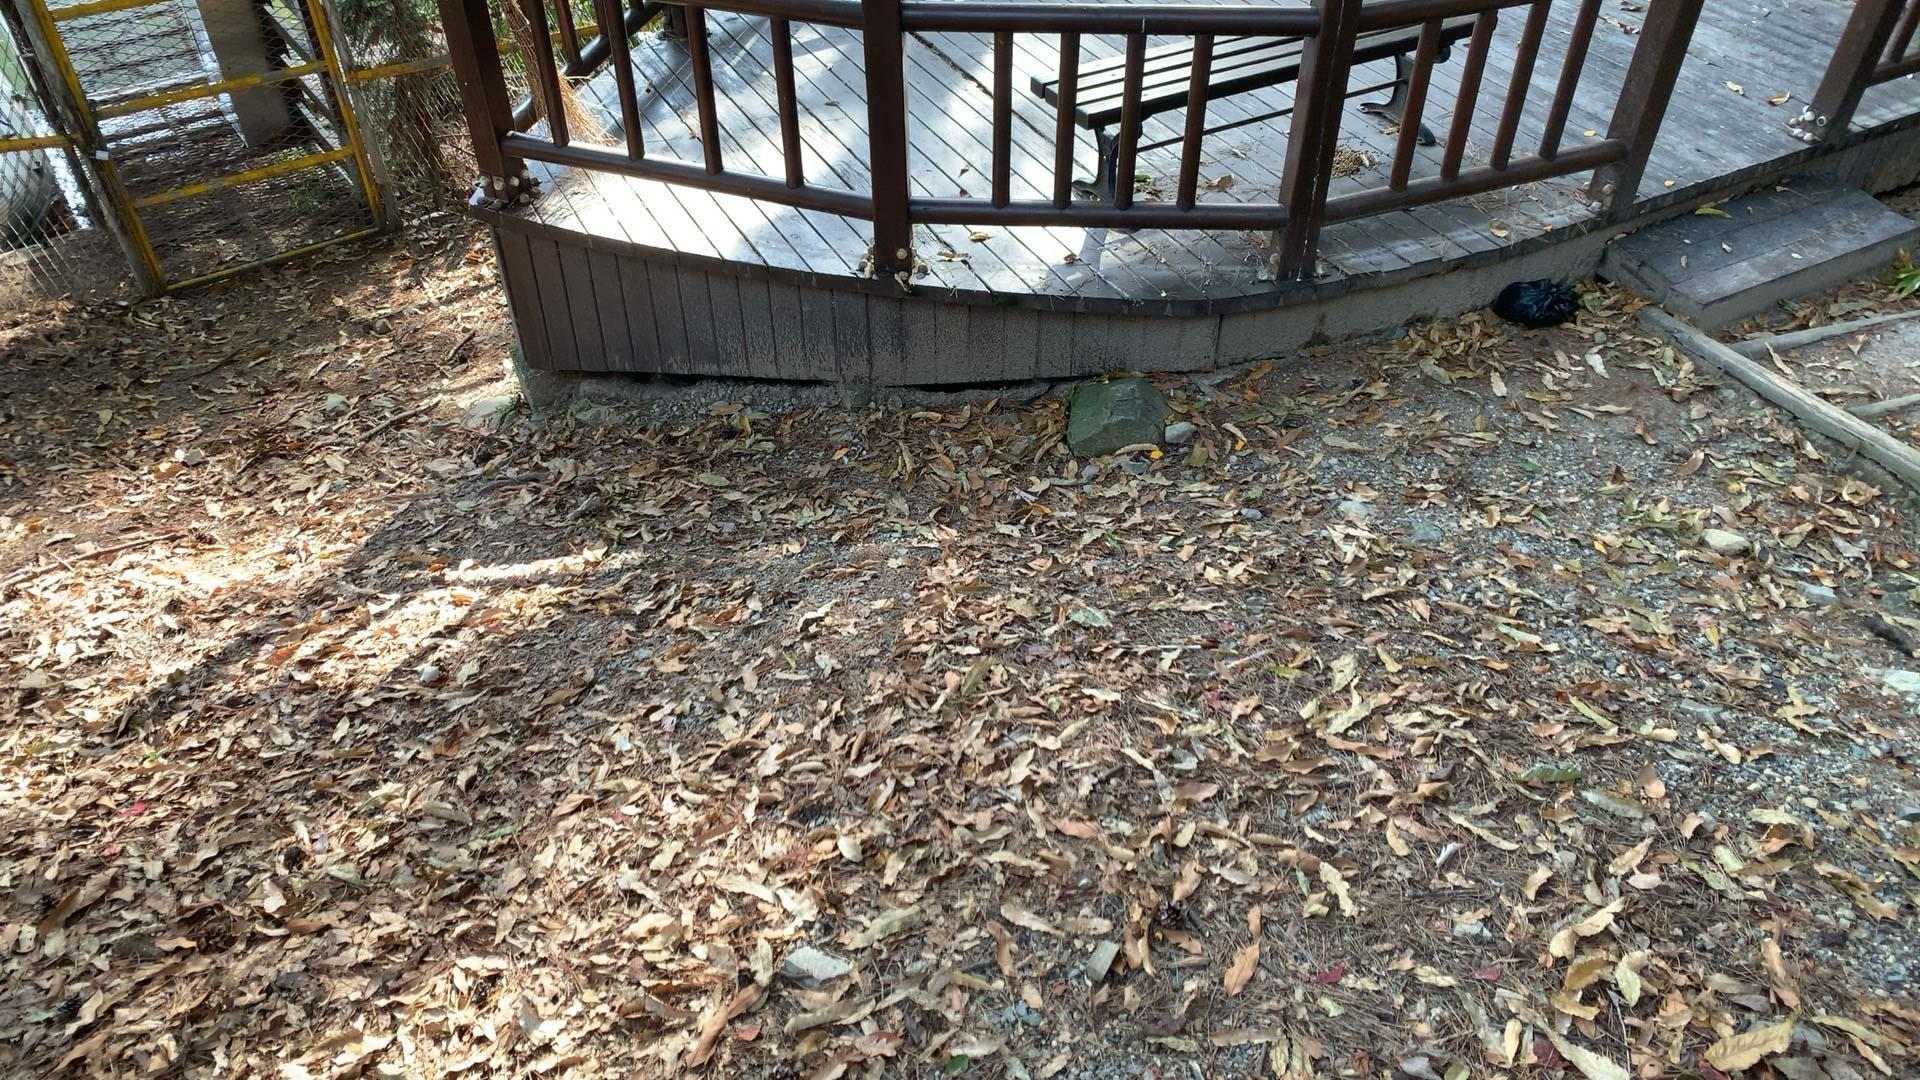black_bag: (1487, 274, 1585, 331)
